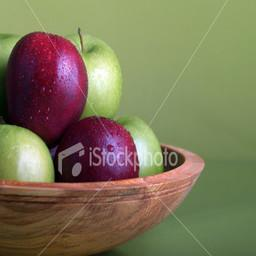apple: (5, 30, 88, 136), (59, 31, 123, 120), (55, 117, 140, 182), (1, 124, 55, 184), (112, 116, 163, 176)
